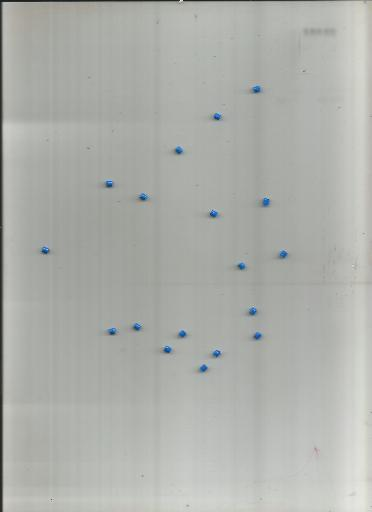Pellet: (248, 306, 258, 316), (177, 329, 188, 338), (209, 209, 218, 219), (238, 262, 248, 271), (163, 345, 173, 354), (262, 197, 270, 208), (254, 331, 263, 340), (175, 145, 183, 155), (140, 193, 148, 202), (280, 250, 289, 258), (213, 349, 221, 358), (200, 363, 208, 372), (133, 322, 141, 331), (253, 85, 261, 93), (109, 327, 117, 335), (214, 112, 221, 120), (106, 180, 113, 188), (42, 247, 49, 254)
